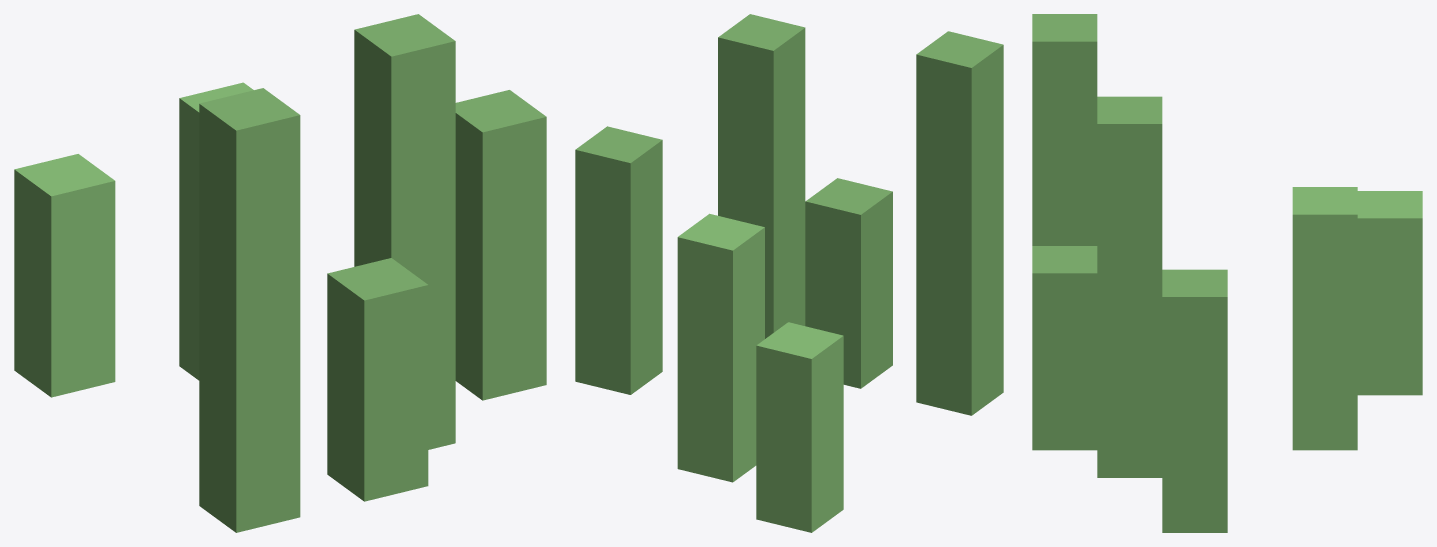
File: trebol_05.glb
The picture shows the model from 3 angles, left to right: view 1: azimuth 30°, elevation 25°; view 2: azimuth 150°, elevation 25°; view 3: azimuth 270°, elevation 25°; orthographic projection. The views are drawn at different scales.
Parts seen in each view (by area): view 1: trebol_05; view 2: trebol_05; view 3: trebol_05.
Part boxes in pixels (<box>): trebol_05: <box>14,14,546,532</box>; trebol_05: <box>575,14,1003,532</box>; trebol_05: <box>1032,14,1422,532</box>.
Bounding box in the file's own units: 0.6 × 0.6 × 0.6.
